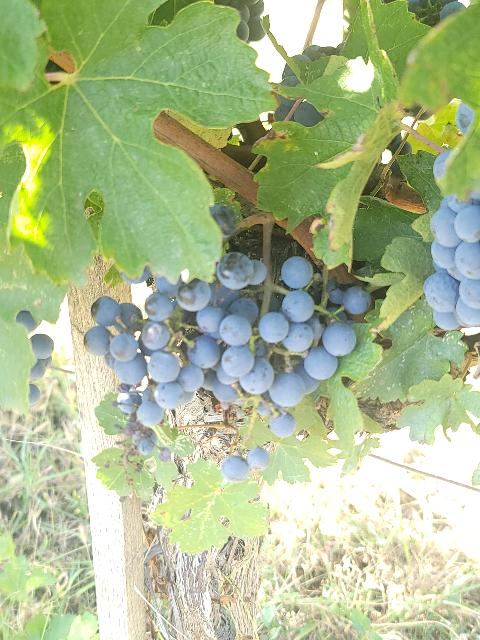grapes: (85, 251, 370, 452)
